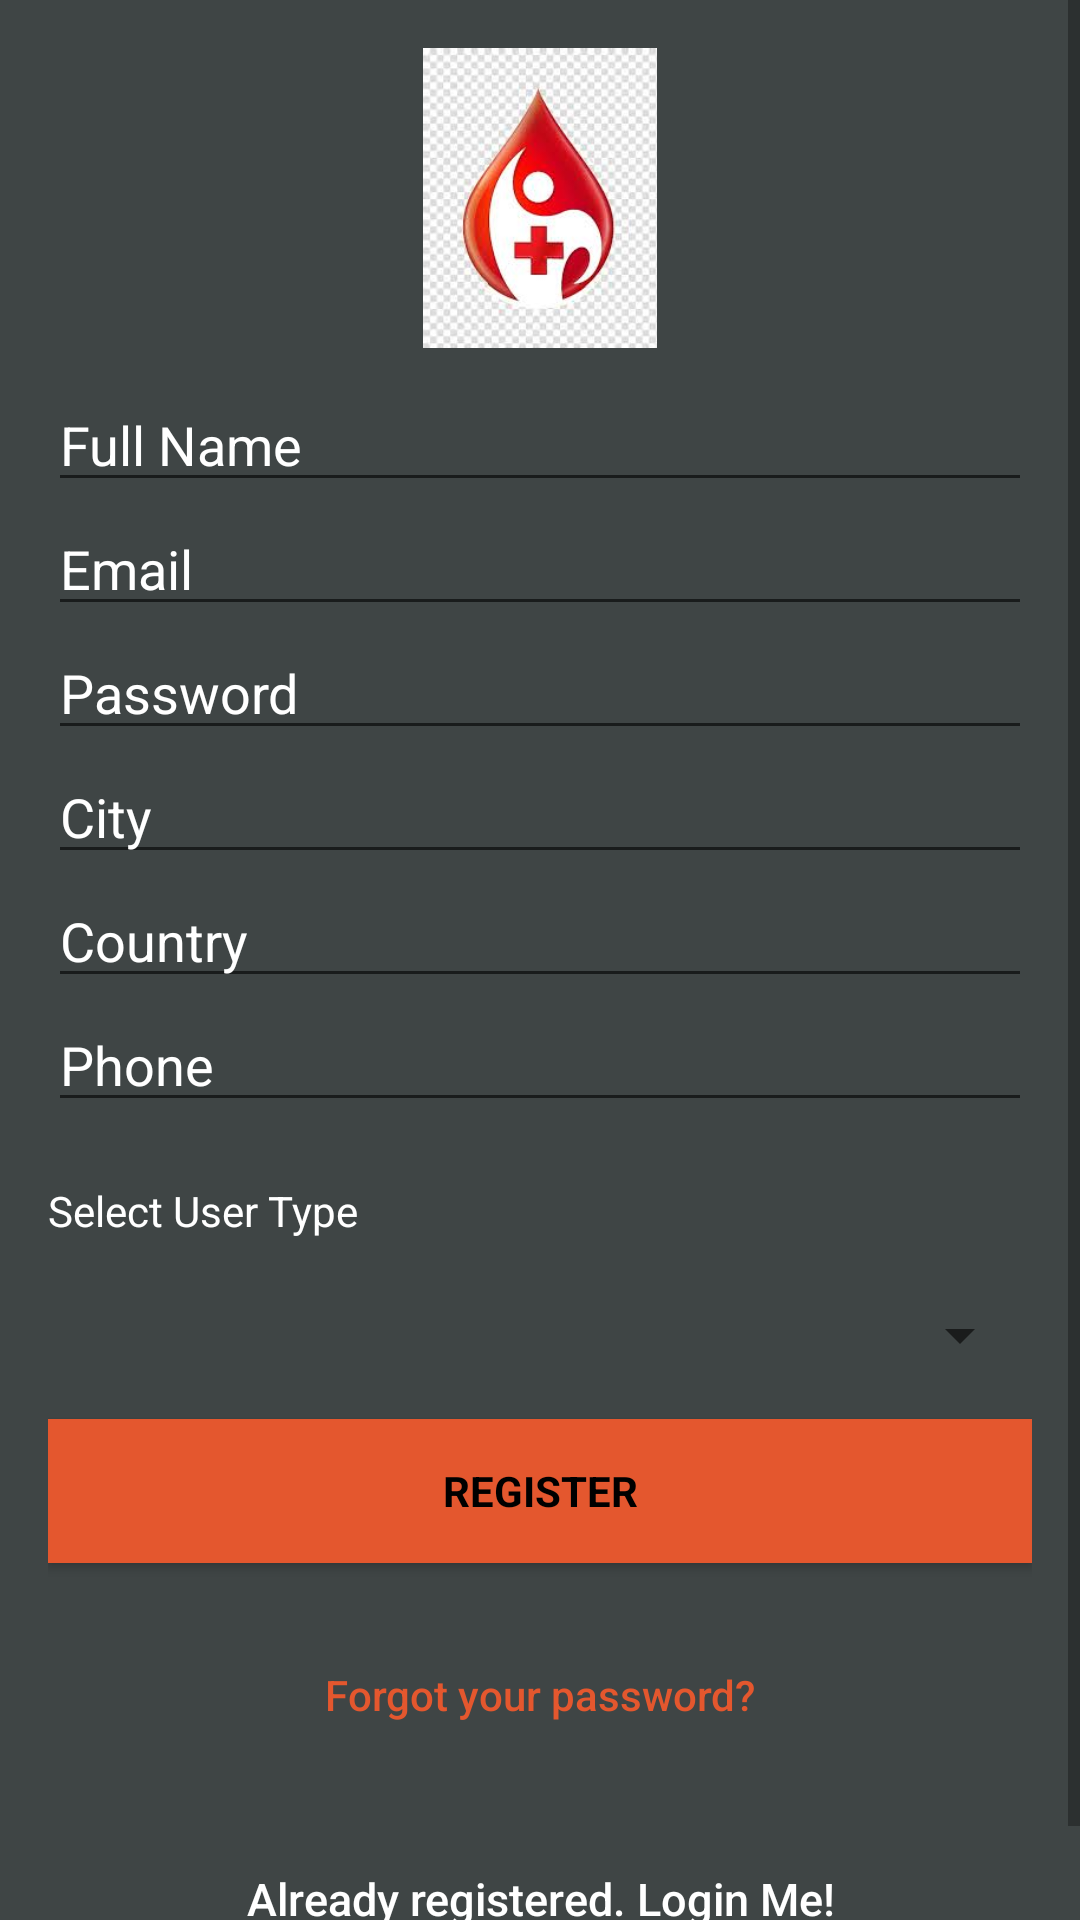

Icon click points for this 1080 x 1920 phone screenshot, format (x=x, y=y):
appicon: (x=540, y=198)
